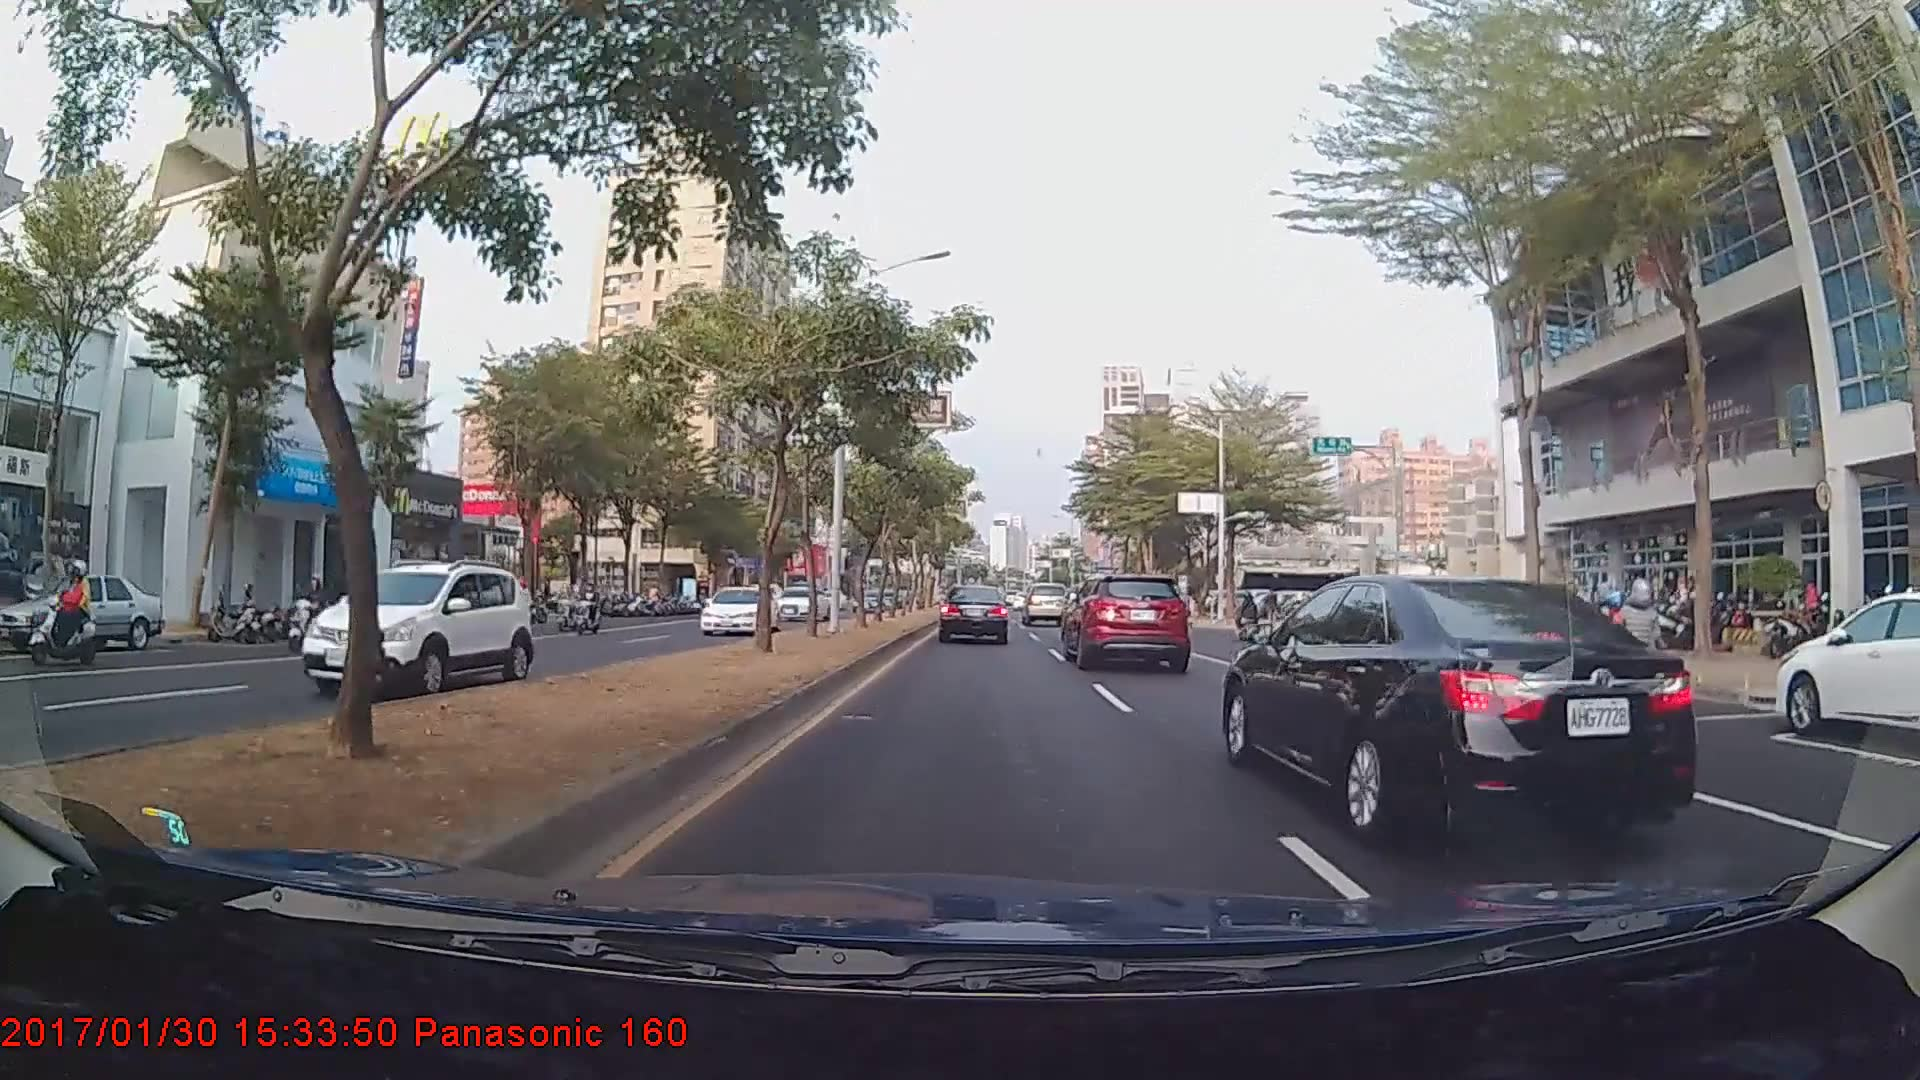rider: (1575, 576, 1664, 716), (23, 561, 109, 668)
vehicle: (1236, 558, 1679, 841), (298, 557, 542, 698), (1772, 587, 1920, 759), (2, 572, 161, 650), (1065, 572, 1190, 670), (937, 583, 1009, 645), (698, 585, 778, 636), (767, 585, 832, 622), (1020, 582, 1068, 627)
